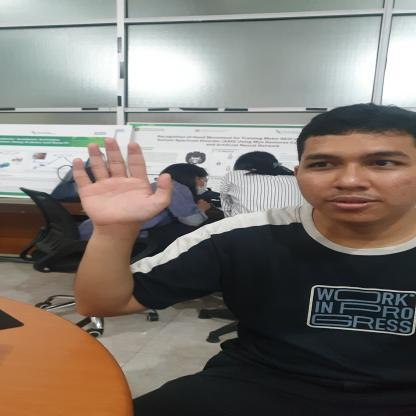Halo: (69, 135, 174, 225)
